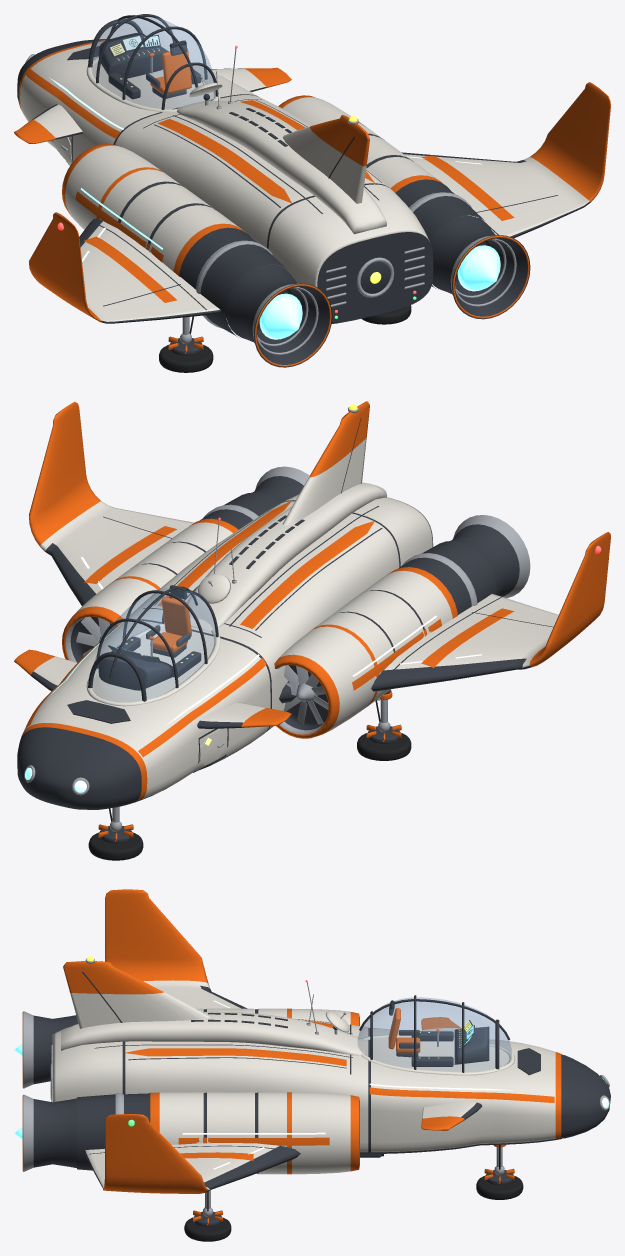
File: ship_explorer.glb
The picture shows the model from 3 angles, top to bottom: view 1: azimuth 30°, elevation 25°; view 2: azimuth 150°, elevation 25°; view 3: azimuth 270°, elevation 25°; orthographic projection. The views are drawn at different scales.
Parts seen in each view (by area): view 1: Hull, Engine_L, Engine_R, Cockpit_Glass, Cockpit_Interior, Gear_RearL, Engine_Glow_L, Engine_Glow_R, Gear_RearR; view 2: Hull, Engine_L, Engine_R, Cockpit_Glass, Cockpit_Interior, Gear_RearL, Gear_Front; view 3: Hull, Engine_R, Cockpit_Glass, Engine_L, Cockpit_Interior, Gear_Front, Gear_RearR.
Part boxes in pixels (box(x1,y1,x2,y2)): Hull: box(14, 14, 610, 323); Engine_L: box(62, 143, 332, 367); Engine_R: box(278, 95, 530, 319); Cockpit_Glass: box(91, 17, 215, 108); Cockpit_Interior: box(98, 32, 201, 99); Gear_RearL: box(159, 316, 213, 372); Engine_Glow_L: box(259, 293, 302, 339); Engine_Glow_R: box(457, 245, 500, 291); Gear_RearR: box(361, 305, 411, 324); Hull: box(14, 401, 610, 809); Engine_L: box(274, 515, 530, 738); Engine_R: box(62, 466, 309, 662); Cockpit_Glass: box(92, 587, 216, 701); Cockpit_Interior: box(98, 585, 201, 690); Gear_RearL: box(357, 689, 411, 760); Gear_Front: box(88, 807, 143, 860); Hull: box(50, 889, 610, 1193); Engine_R: box(22, 1092, 359, 1174); Cockpit_Glass: box(357, 997, 511, 1071); Engine_L: box(22, 1008, 359, 1088); Cockpit_Interior: box(388, 1000, 489, 1066); Gear_Front: box(476, 1144, 523, 1199); Gear_RearR: box(184, 1190, 231, 1241).
Bounding box in the file's own units: 12.88 × 6.17 × 14.22.
